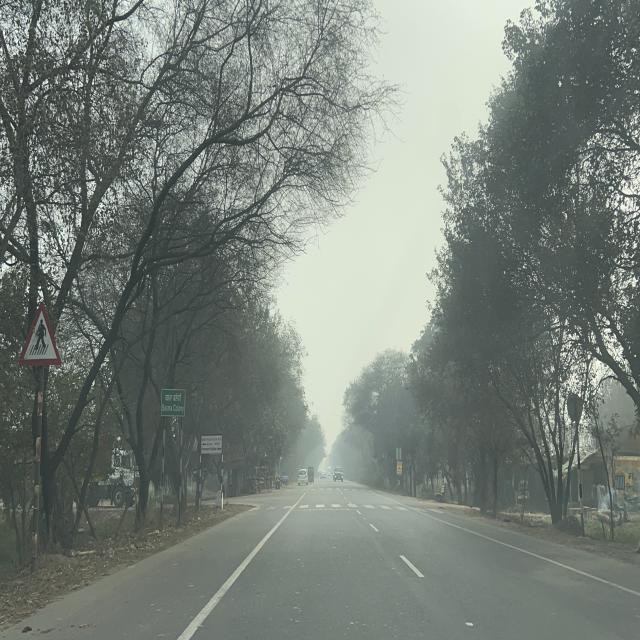GENERAL: (160, 389, 186, 417)
PEDESTRIAN_CROSSING: (18, 302, 63, 365)
